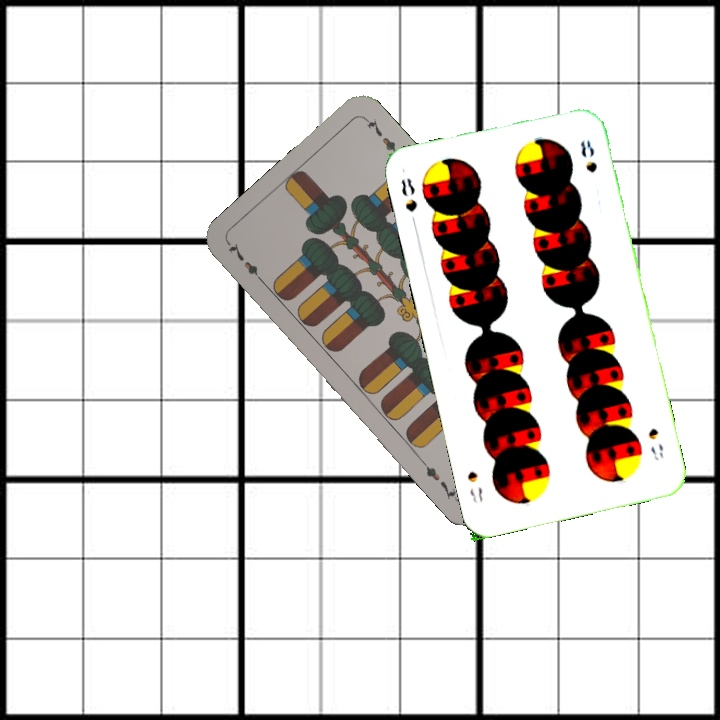E7: (224, 238, 268, 288)
S8: (397, 174, 420, 230), (644, 423, 666, 463)
